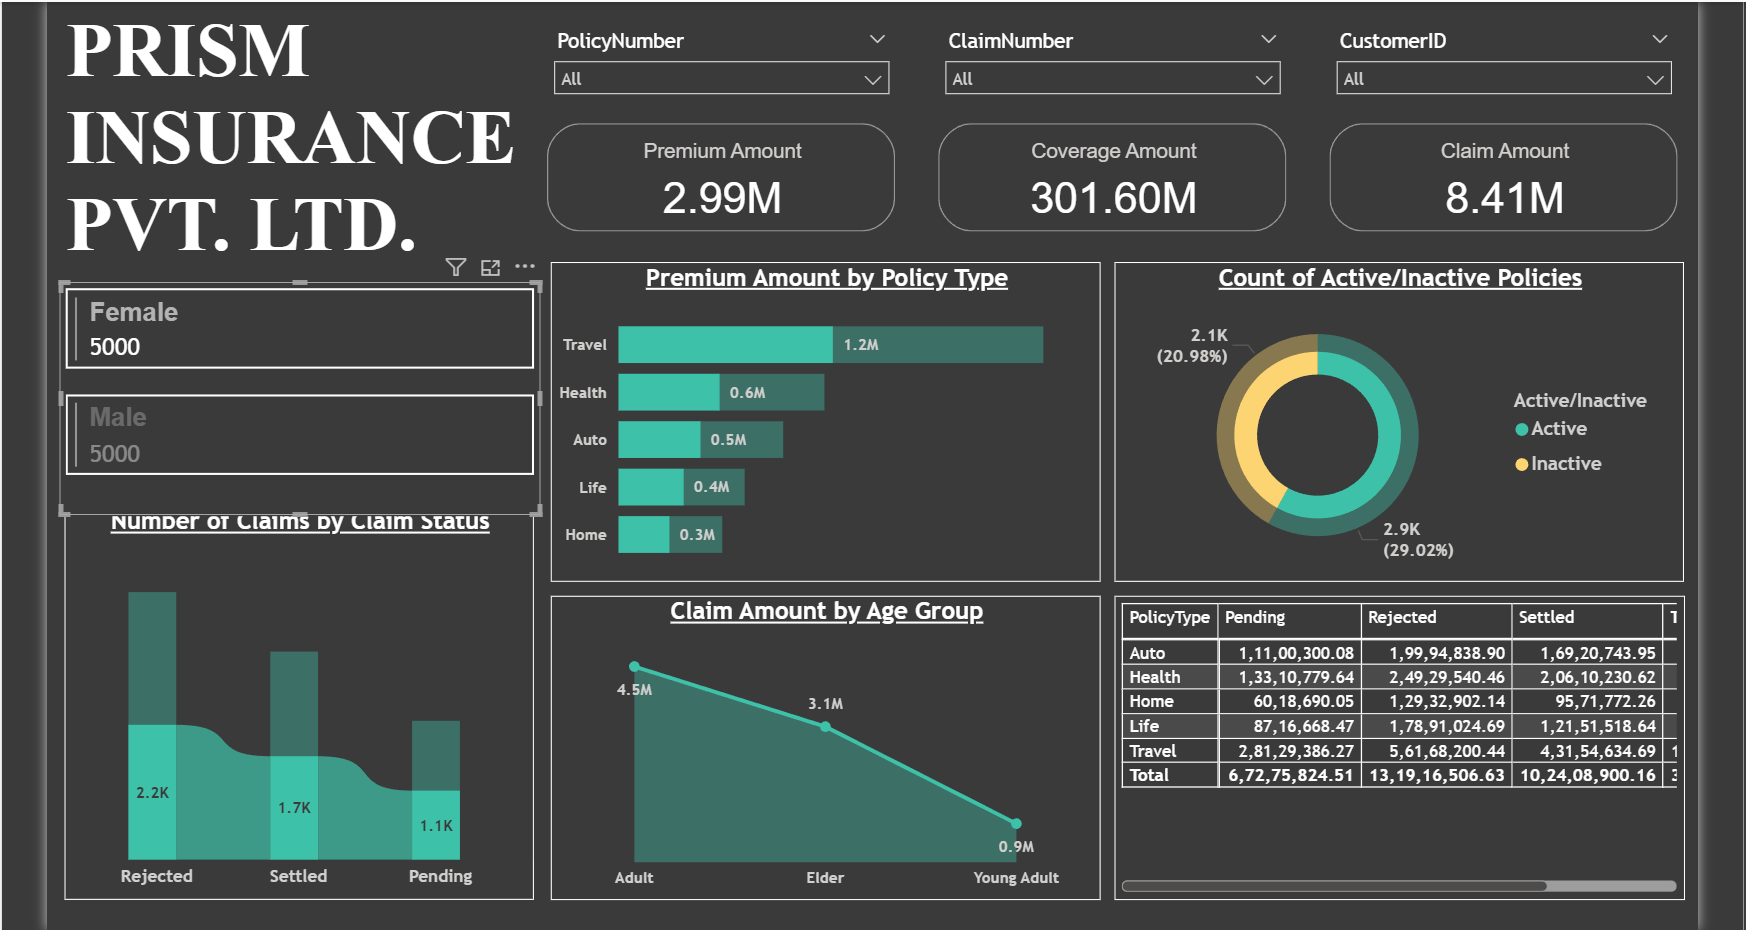

Layout of this report page (visuals, bound fields, positions):
{"tool":"powerbi","page":{"name":"Page 1","canvas":[1280,720],"ordinal":0},"visuals":[{"type":"slicer","fields":{"Values":["insurancedb insurancedata.ï»¿PolicyNumber"]},"box":[382.6,15.1,280.2,74.4],"z":0},{"type":"slicer","fields":{"Values":["insurancedb insurancedata.ClaimNumber"]},"box":[686,15.1,280.2,74.4],"z":1000},{"type":"slicer","fields":{"Values":["insurancedb insurancedata.CustomerID"]},"box":[989.5,15.1,280.2,74.4],"z":2000},{"type":"textbox","box":[9.3,0,373.3,217.4],"z":3000},{"type":"cardVisual","fields":{"Data":["Sum(insurancedb insurancedata.PremiumAmount)"]},"box":[382.6,89.5,280.2,94.2],"z":4000},{"type":"cardVisual","fields":{"Data":["Sum(insurancedb insurancedata.CoverageAmount)"]},"box":[686,89.5,280.2,94.2],"z":5000},{"type":"cardVisual","fields":{"Data":["Sum(insurancedb insurancedata.ClaimAmount)"]},"box":[989.5,89.5,280.2,94.2],"z":6000},{"type":"multiRowCard","fields":{"Values":["insurancedb insurancedata.Gender","CountNonNull(insurancedb insurancedata.Gender)"]},"box":[9.3,217.4,373.3,181.4],"z":7000},{"type":"ribbonChart","title":"Number of Claims by Claim Status ","fields":{"Category":["insurancedb insurancedata.ClaimStatus"],"Y":["CountNonNull(insurancedb insurancedata.ClaimStatus)"]},"box":[14,390.7,364,305.8],"z":8000},{"type":"barChart","title":"Premium Amount by Policy Type","fields":{"Category":["insurancedb insurancedata.PolicyType"],"Y":["Sum(insurancedb insurancedata.PremiumAmount)"]},"box":[390.7,201.2,426.7,247.7],"z":9000},{"type":"lineChart","title":"Claim Amount by Age Group","fields":{"Category":["insurancedb insurancedata.Age Group"],"Y":["Sum(insurancedb insurancedata.ClaimAmount)"]},"box":[390.7,460.5,426.7,236],"z":10000},{"type":"donutChart","title":"Count of Active/Inactive Policies","fields":{"Category":["insurancedb insurancedata.Active/Inactive"],"Y":["CountNonNull(insurancedb insurancedata.Active/Inactive)"]},"box":[827.9,201.2,441.9,247.7],"z":11000},{"type":"pivotTable","fields":{"Values":["Sum(insurancedb insurancedata.CoverageAmount)"],"Rows":["insurancedb insurancedata.PolicyType"],"Columns":["insurancedb insurancedata.ClaimStatus"]},"box":[828,460,442,236],"z":12000}]}

Visuals, with their boxes on the page's 1280x720 design canvas (x1, y1, x2, y2). These are canvas units, not pixel positions in the 1746x930 screenshot, which may show the page scaled, cropped or inside an application window:
slicer - insurancedb insurancedata.ï»¿PolicyNumber: {"left": 383, "top": 15, "right": 663, "bottom": 90}
slicer - insurancedb insurancedata.ClaimNumber: {"left": 686, "top": 15, "right": 966, "bottom": 90}
slicer - insurancedb insurancedata.CustomerID: {"left": 990, "top": 15, "right": 1270, "bottom": 90}
textbox: {"left": 9, "top": 0, "right": 383, "bottom": 217}
cardVisual - Sum(insurancedb insurancedata.PremiumAmount): {"left": 383, "top": 90, "right": 663, "bottom": 184}
cardVisual - Sum(insurancedb insurancedata.CoverageAmount): {"left": 686, "top": 90, "right": 966, "bottom": 184}
cardVisual - Sum(insurancedb insurancedata.ClaimAmount): {"left": 990, "top": 90, "right": 1270, "bottom": 184}
multiRowCard - insurancedb insurancedata.Gender x CountNonNull(insurancedb insurancedata.Gender): {"left": 9, "top": 217, "right": 383, "bottom": 399}
"Number of Claims by Claim Status " ribbonChart: {"left": 14, "top": 391, "right": 378, "bottom": 696}
"Premium Amount by Policy Type" barChart: {"left": 391, "top": 201, "right": 817, "bottom": 449}
"Claim Amount by Age Group" lineChart: {"left": 391, "top": 460, "right": 817, "bottom": 696}
"Count of Active/Inactive Policies" donutChart: {"left": 828, "top": 201, "right": 1270, "bottom": 449}
pivotTable - Sum(insurancedb insurancedata.CoverageAmount) x insurancedb insurancedata.PolicyType: {"left": 828, "top": 460, "right": 1270, "bottom": 696}
